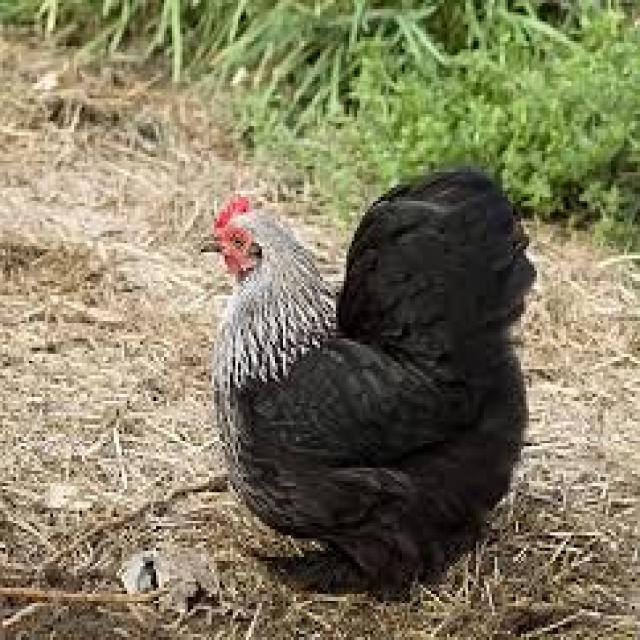Chicken: (192, 174, 544, 610)
